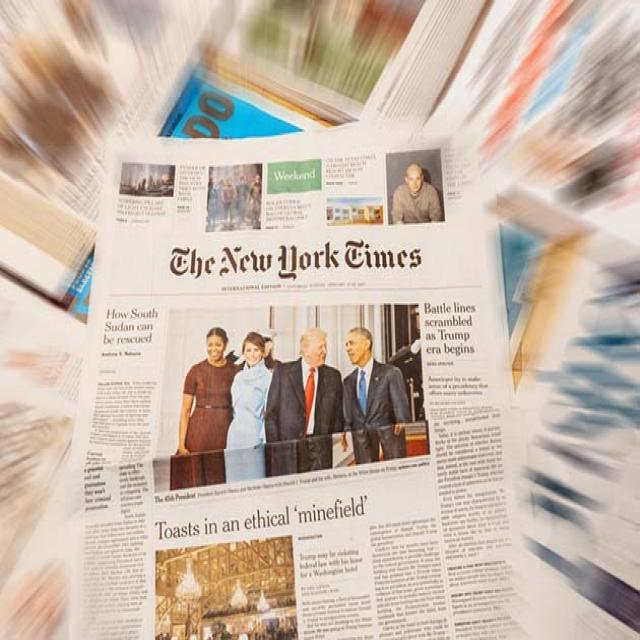newspaper: (76, 113, 527, 640)
